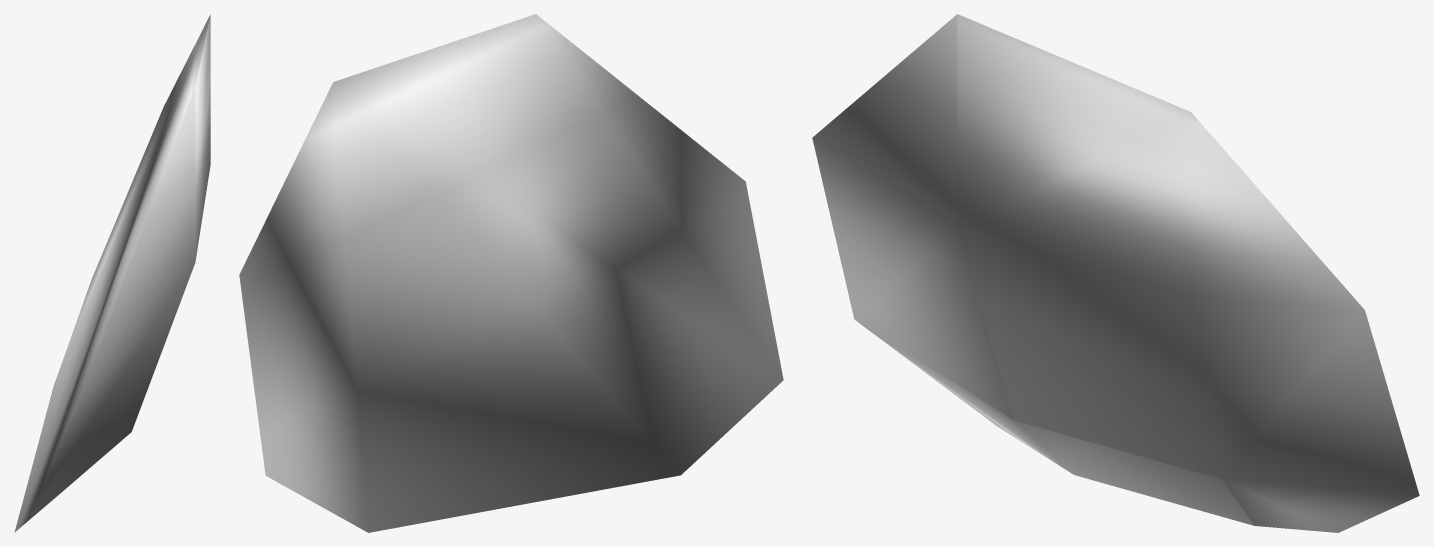
The model's file is pot-part-4.obj.
3 renders of one model, left to right at view 1: azimuth 30°, elevation 25°; view 2: azimuth 150°, elevation 25°; view 3: azimuth 270°, elevation 25°, orthographic. The views are drawn at different scales.
Visible parts, largest first — view 1: Pot-part4; view 2: Pot-part4; view 3: Pot-part4.
Part boxes in pixels (left/top/right/bottom): Pot-part4: left=14, top=14, right=210, bottom=532; Pot-part4: left=239, top=14, right=783, bottom=532; Pot-part4: left=812, top=14, right=1419, bottom=532.
Size of the model in its own units: 0.9185 by 1.06 by 1.15.
Materials: 1 (1 with a texture image).
